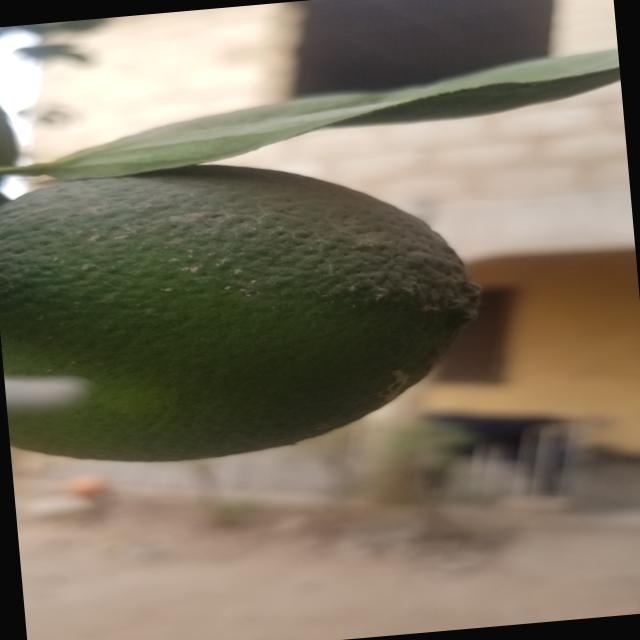agrume: (2, 132, 484, 472)
